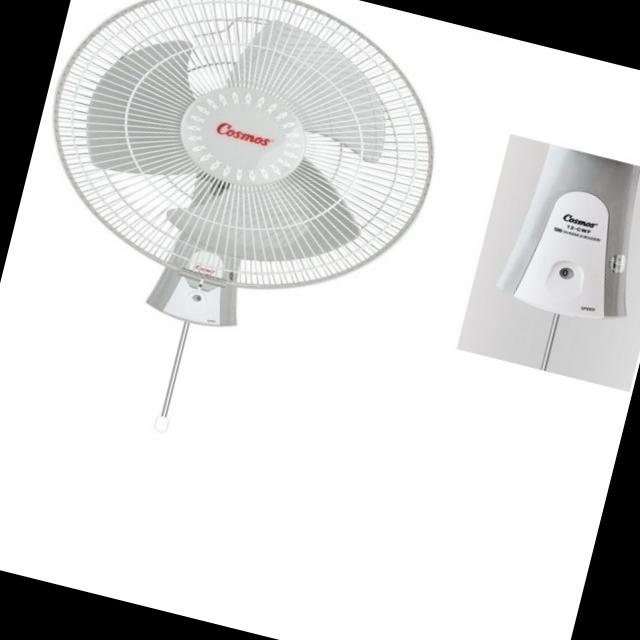fan: (0, 0, 477, 384)
